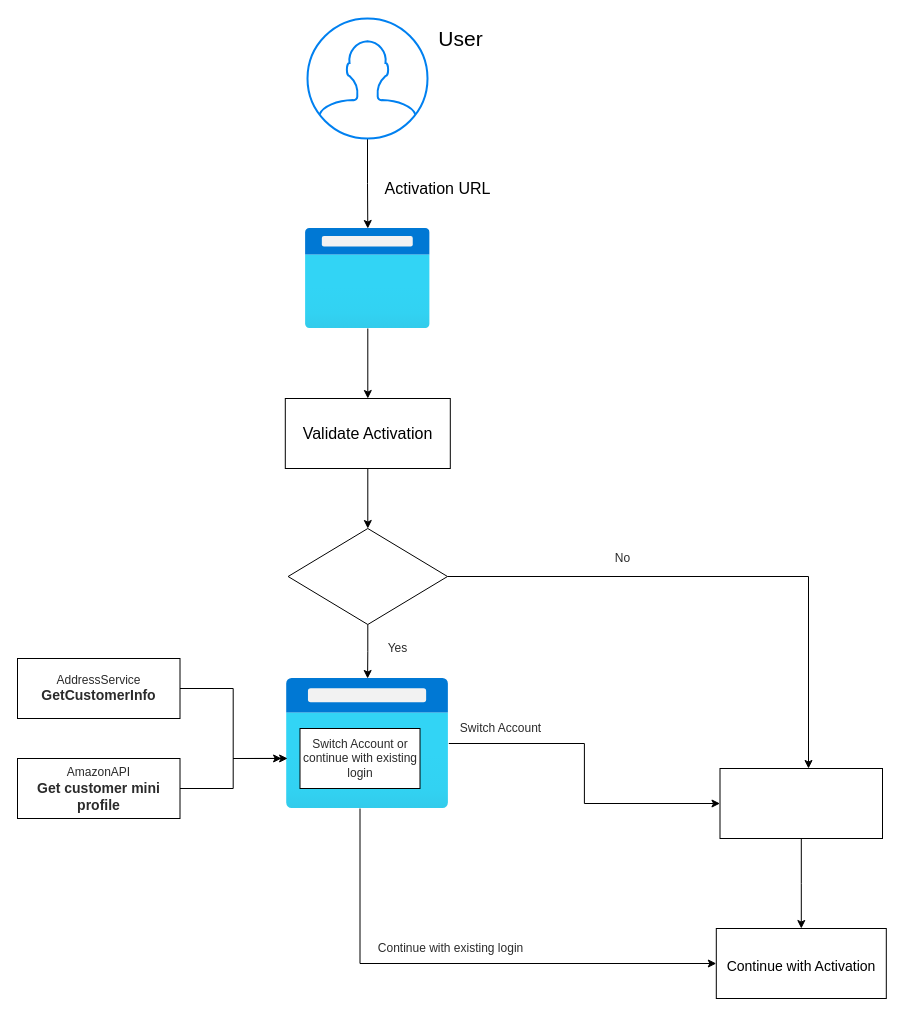
The diagram is 904 pixels wide and 1016 high, and some of its shapes have lost their labels. Each missing label, with the centre of its shape:
"Browser" goes at point 367,278.
"Force Login Redirect to Auth Portal" goes at point 800,803.
"Login Session exists in browser?" goes at point 367,576.
